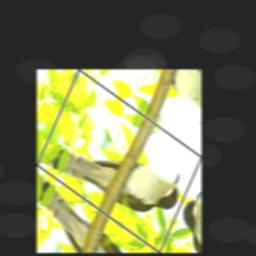Cuckoo: (42, 96, 187, 246)
